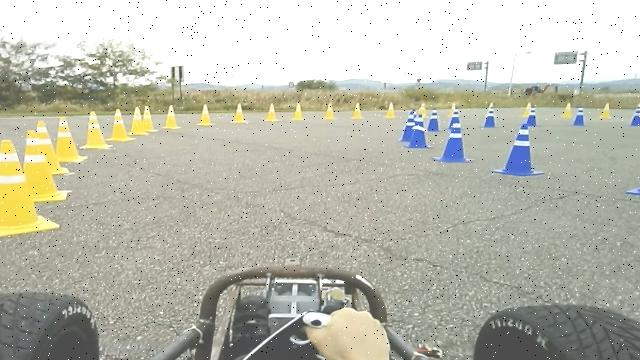blue cone: (492, 123, 545, 177), (434, 117, 476, 163), (404, 113, 436, 148), (398, 108, 416, 142), (626, 168, 640, 196)
yellow cone: (0, 138, 60, 238), (0, 131, 59, 202), (22, 122, 55, 168), (56, 116, 88, 163), (80, 110, 113, 150), (106, 108, 136, 142), (128, 106, 149, 136), (162, 105, 182, 130), (141, 106, 159, 132)
